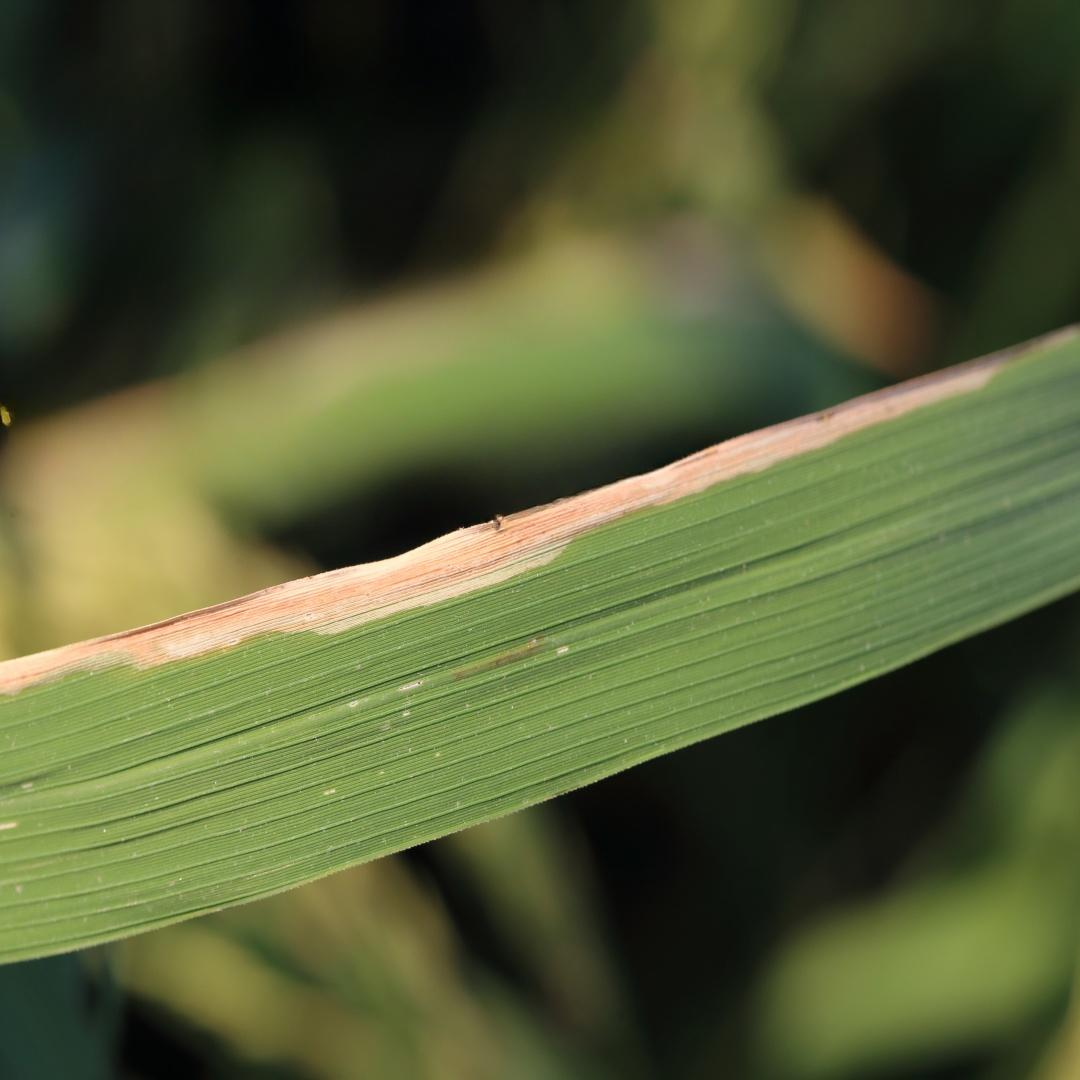BLB: (1, 326, 1077, 696)
LEAF: (0, 324, 1079, 961)
